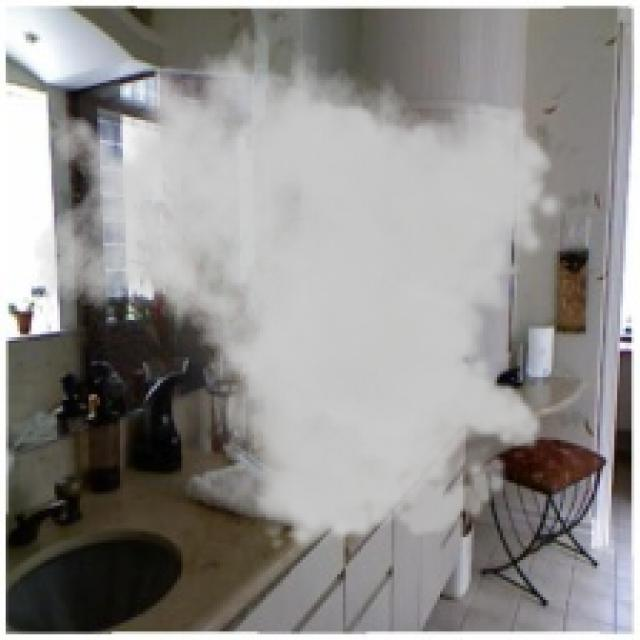smoke: (31, 9, 566, 552)
